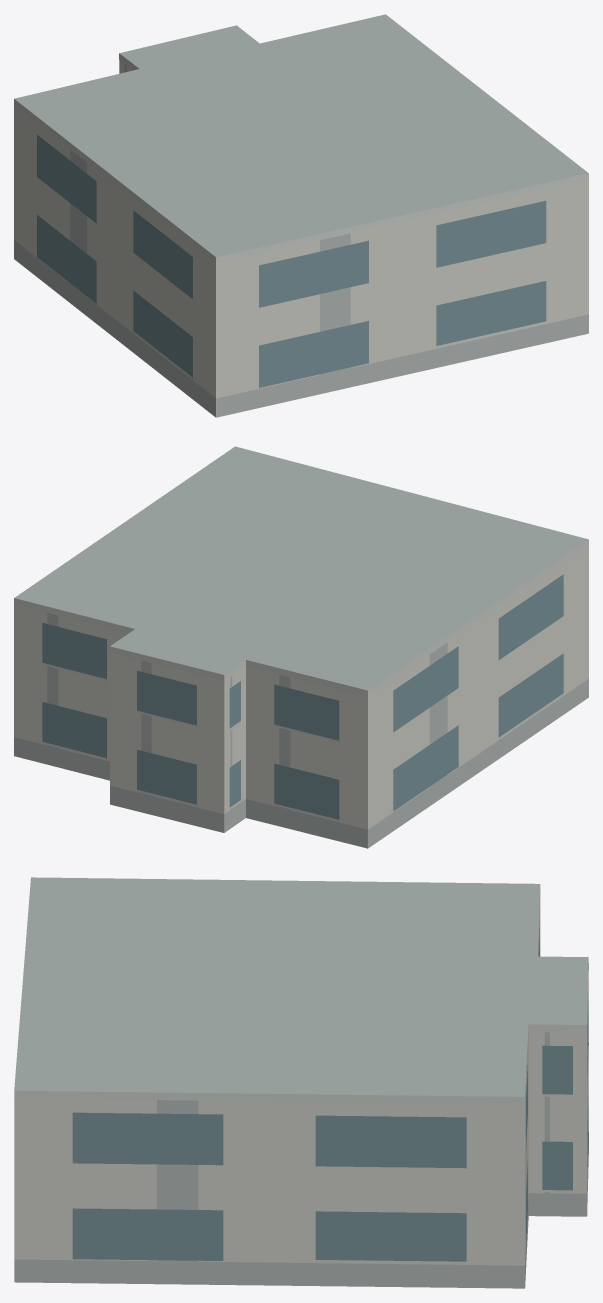
Rendered from survey-upis-32642431.glb.
3 renders of one model, top to bottom at view 1: azimuth 30°, elevation 25°; view 2: azimuth 150°, elevation 25°; view 3: azimuth 270°, elevation 25°, orthographic. The views are drawn at different scales.
Visible parts, largest first — view 1: survey-upis-32642431.tmp; view 2: survey-upis-32642431.tmp; view 3: survey-upis-32642431.tmp.
Part boxes in pixels (<box>): survey-upis-32642431.tmp: <box>14,14,588,417</box>; survey-upis-32642431.tmp: <box>14,446,588,848</box>; survey-upis-32642431.tmp: <box>14,877,588,1288</box>.
Size of the model in its own units: 14.99 by 6.1 by 16.59.
